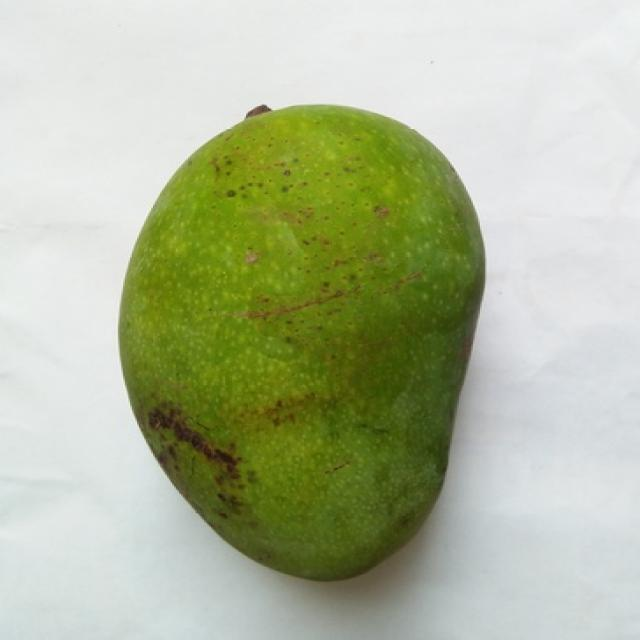Mango: (120, 106, 484, 579)
